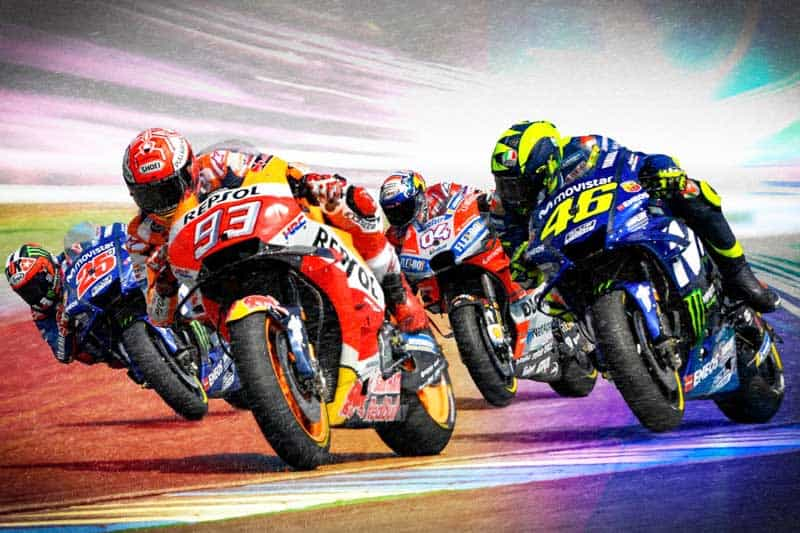helmet: (113, 126, 195, 212), (481, 112, 554, 204), (1, 238, 57, 317), (377, 164, 424, 227)
